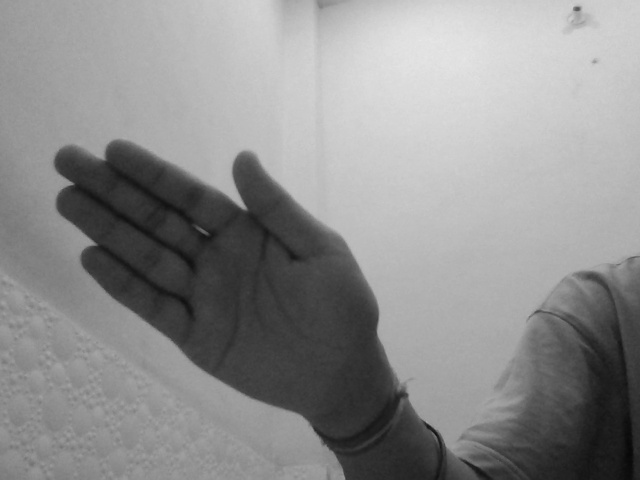Hello: (45, 139, 382, 418)
